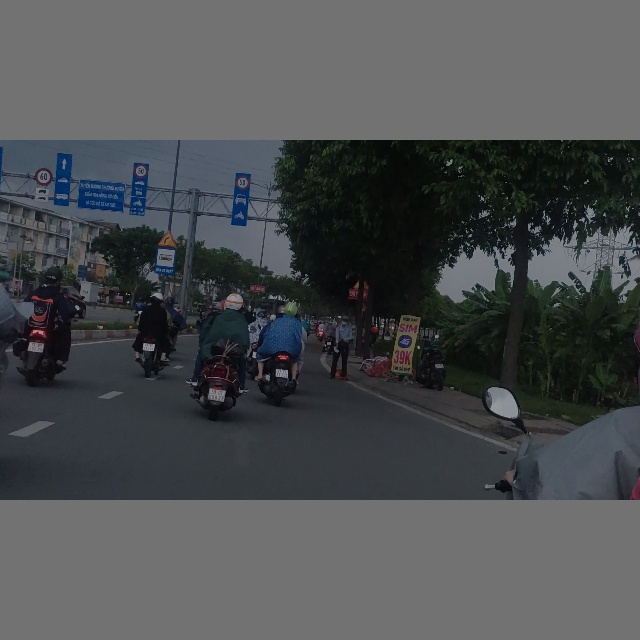I.434a: (154, 247, 176, 275)
P.127*50: (236, 175, 249, 190), (134, 164, 147, 178)
P.127*60: (34, 168, 52, 186)
S.505a*Xe tai va cong: (34, 187, 50, 203)
W.201b: (157, 230, 176, 247)
